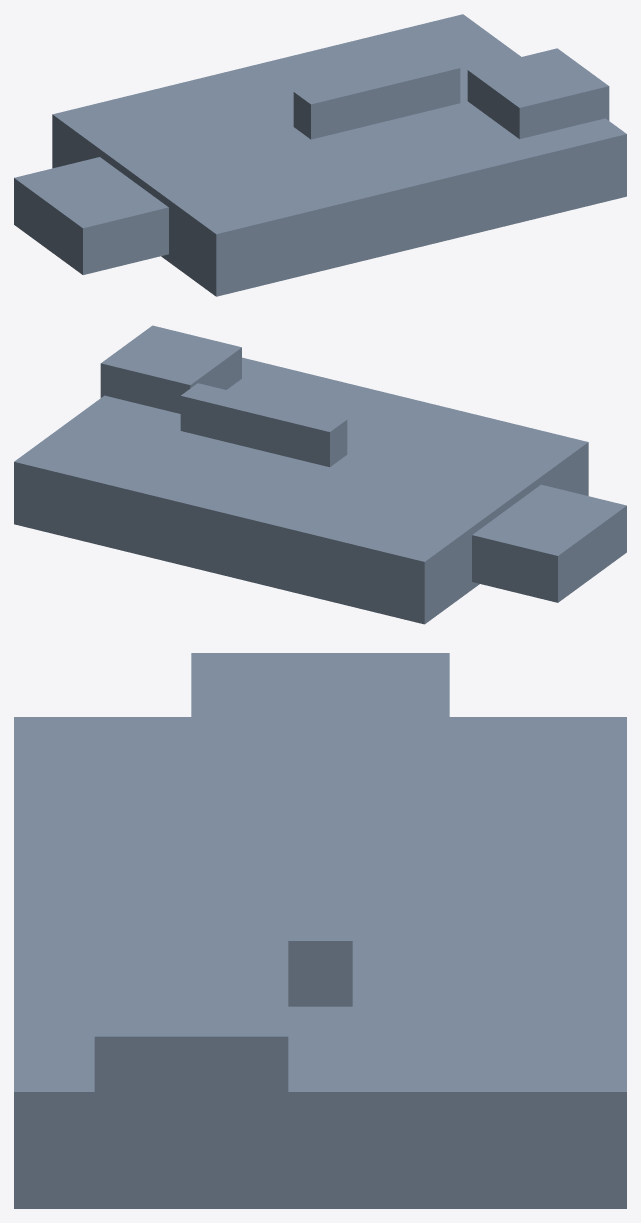
Rendered from fish_moon_flounder.glb.
3 renders of one model, top to bottom at view 1: azimuth 30°, elevation 25°; view 2: azimuth 150°, elevation 25°; view 3: azimuth 270°, elevation 25°, orthographic. The views are drawn at different scales.
Parts seen in each view (by area): view 1: species.moon_flounder; view 2: species.moon_flounder; view 3: species.moon_flounder.
Part boxes in pixels (left/top/right/bottom): species.moon_flounder: left=14, top=14, right=626, bottom=296; species.moon_flounder: left=14, top=325, right=626, bottom=624; species.moon_flounder: left=14, top=653, right=626, bottom=1208.
Bounding box in the file's own units: 0.3 × 0.056 × 0.1701.
